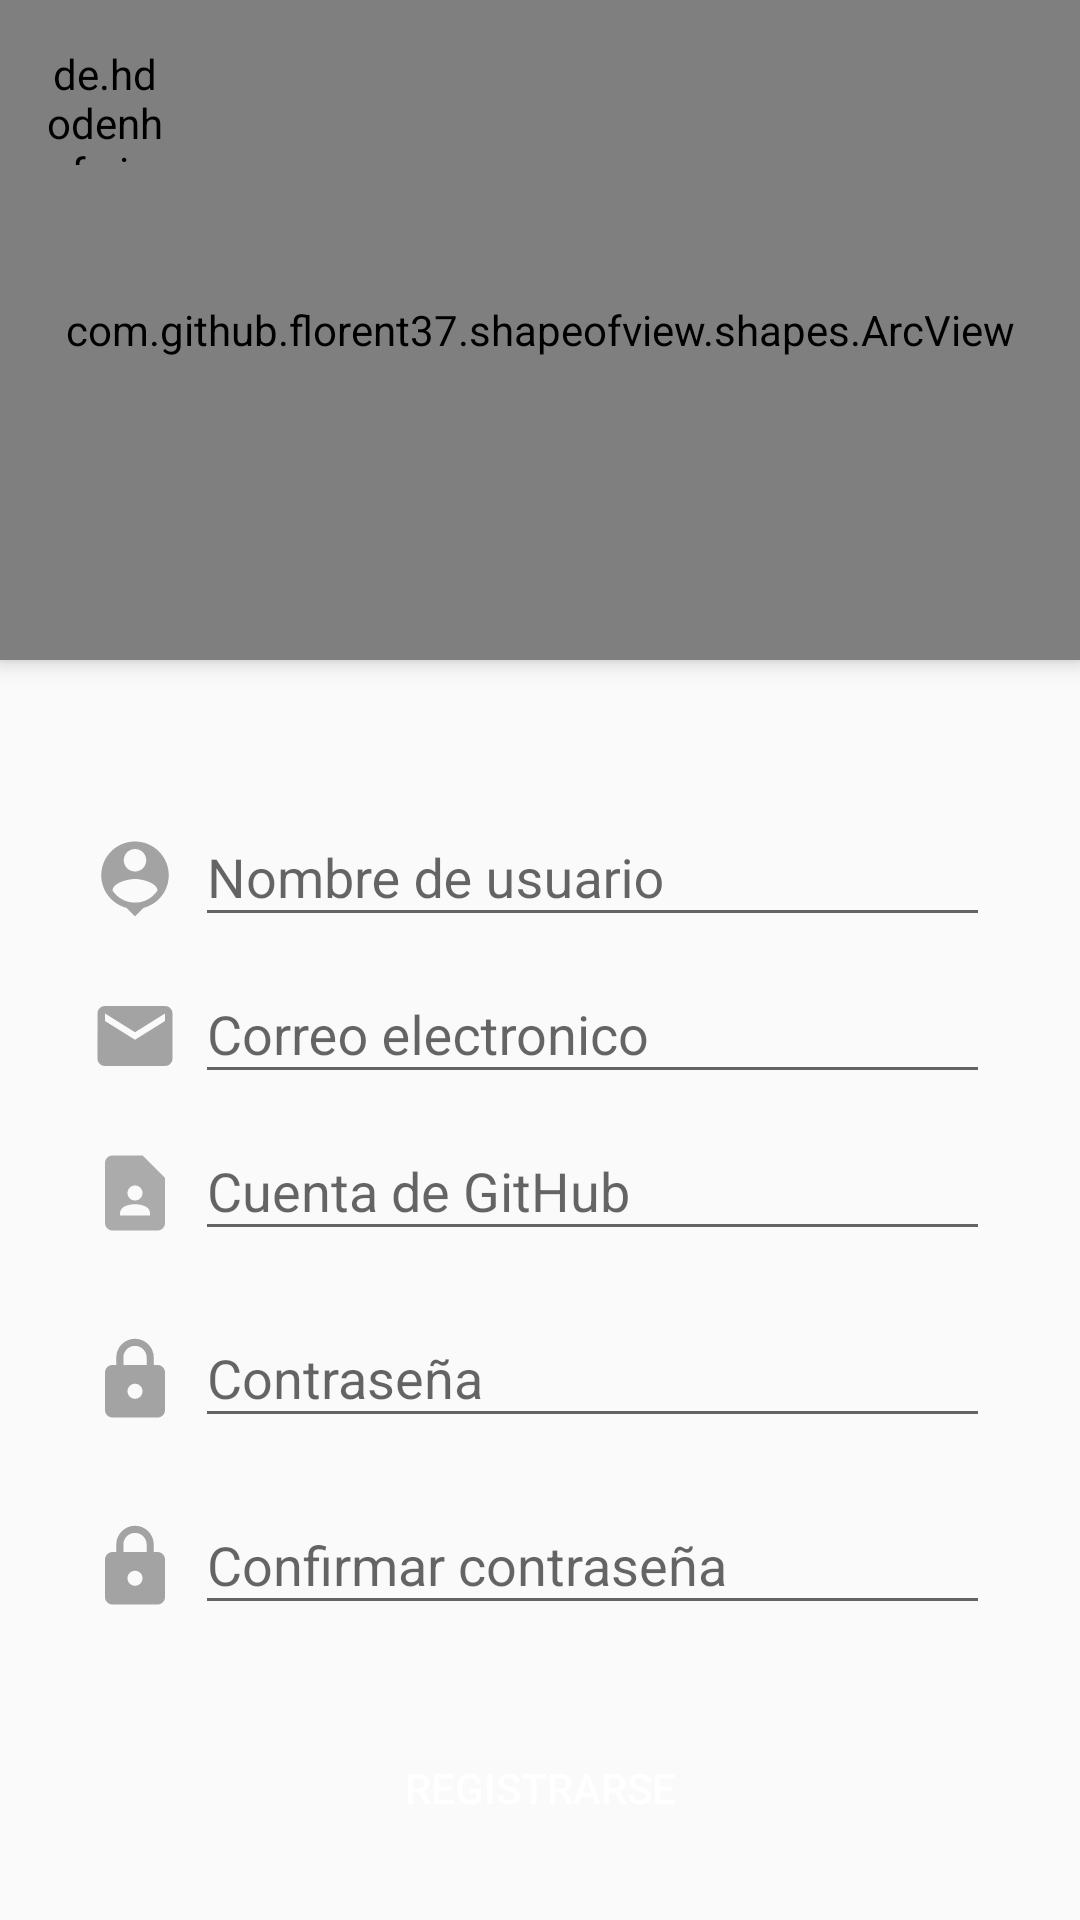

Named icons in this screenshot (1080x1920) and their bounding boxes, (x1, y1, x2, y2):
email: (97, 1006, 173, 1066)
person pin: (101, 841, 169, 916)
